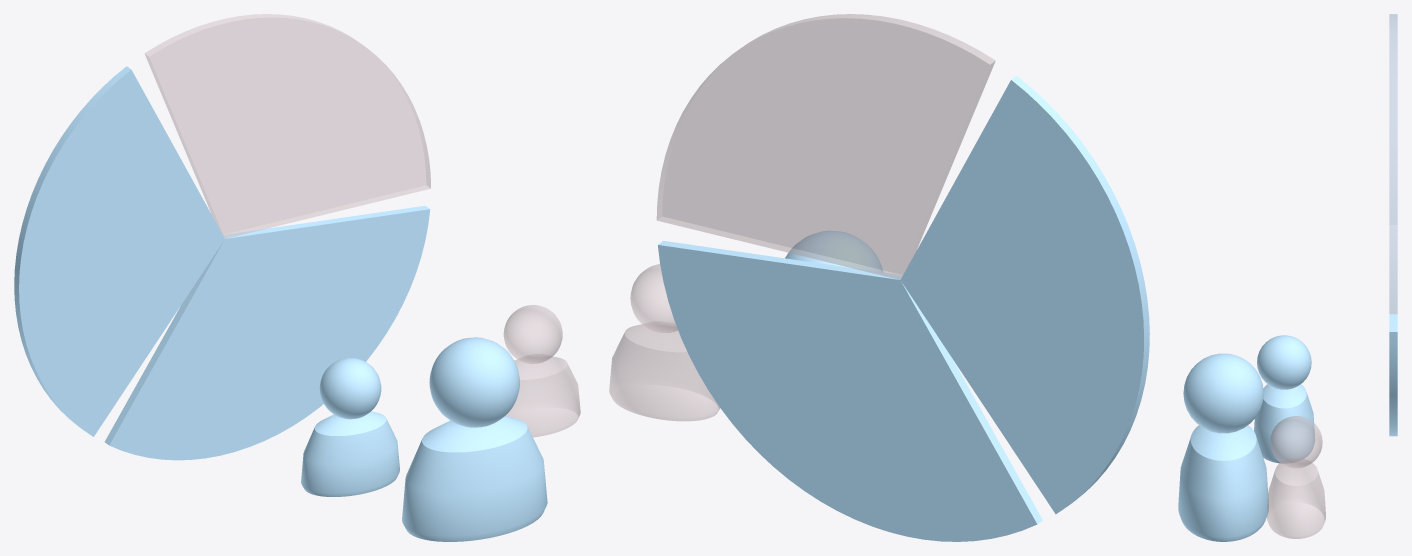
File: 43-segmentation.glb
3 renders of one model, left to right at view 1: azimuth 30°, elevation 25°; view 2: azimuth 150°, elevation 25°; view 3: azimuth 270°, elevation 25°, orthographic. The views are drawn at different scales.
Parts seen in each view (by area): view 1: BC etched pale glass, BC subtle ruby technical glass; view 2: BC etched pale glass, BC subtle ruby technical glass; view 3: BC etched pale glass, BC subtle ruby technical glass.
Part boxes in pixels (x1=…): BC etched pale glass: x1=14, y1=66, x2=547, y2=541; BC subtle ruby technical glass: x1=144, y1=14, x2=580, y2=437; BC etched pale glass: x1=658, y1=76, x2=1149, y2=541; BC subtle ruby technical glass: x1=609, y1=14, x2=995, y2=421; BC etched pale glass: x1=1178, y1=14, x2=1397, y2=541; BC subtle ruby technical glass: x1=1266, y1=14, x2=1397, y2=538.
Size of the model in its own units: 2.14 by 1.87 by 0.9047.
